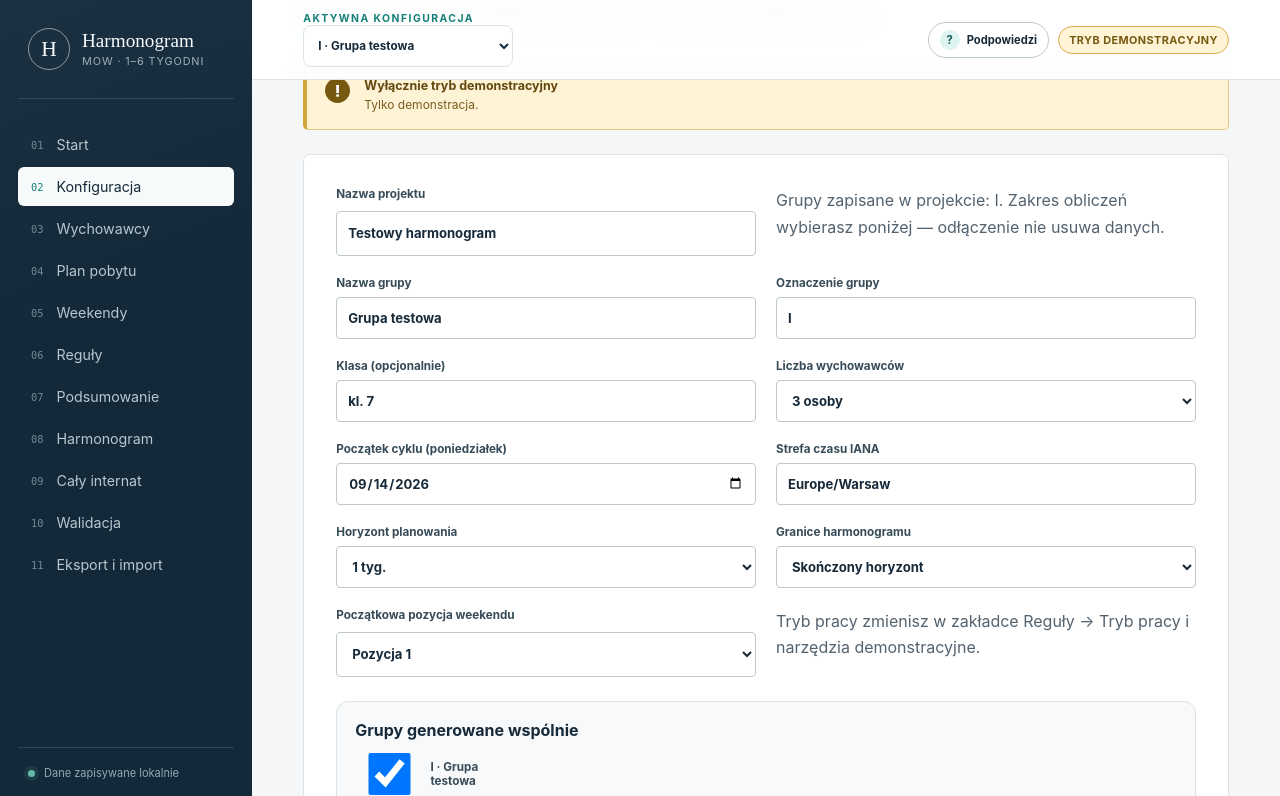
Test: główny przepływ interfejsu › pozwala jawnie przełączyć zespół z trzech na cztery osoby
The width and height of the screenshot is (1280, 796).
(page scrolled)
Select "4 osoby" in the dropdown labelled "Liczba wychowawców" at coordinates (986, 401), box [776,380,1196,422]
(page scrolled)
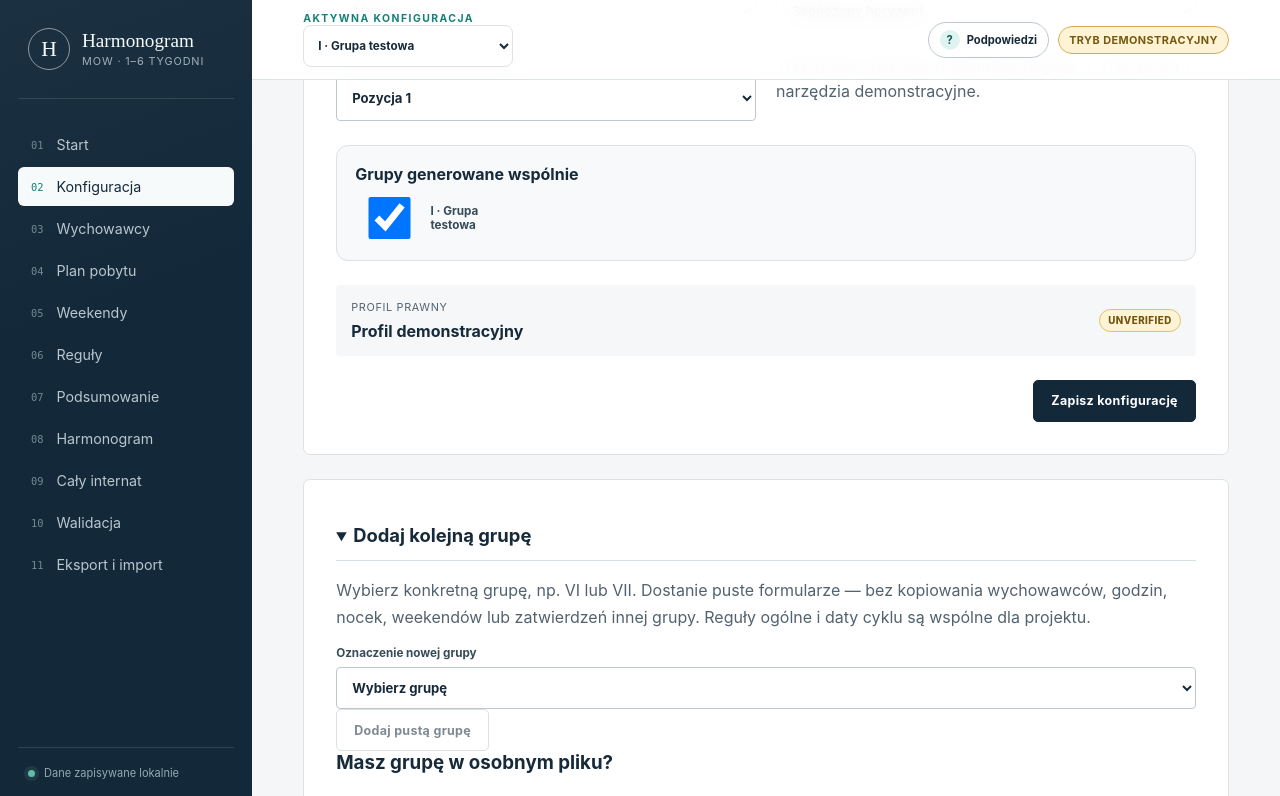
Click the button "Zapisz konfigurację" at coordinates (1115, 401), box [1033,380,1196,422]
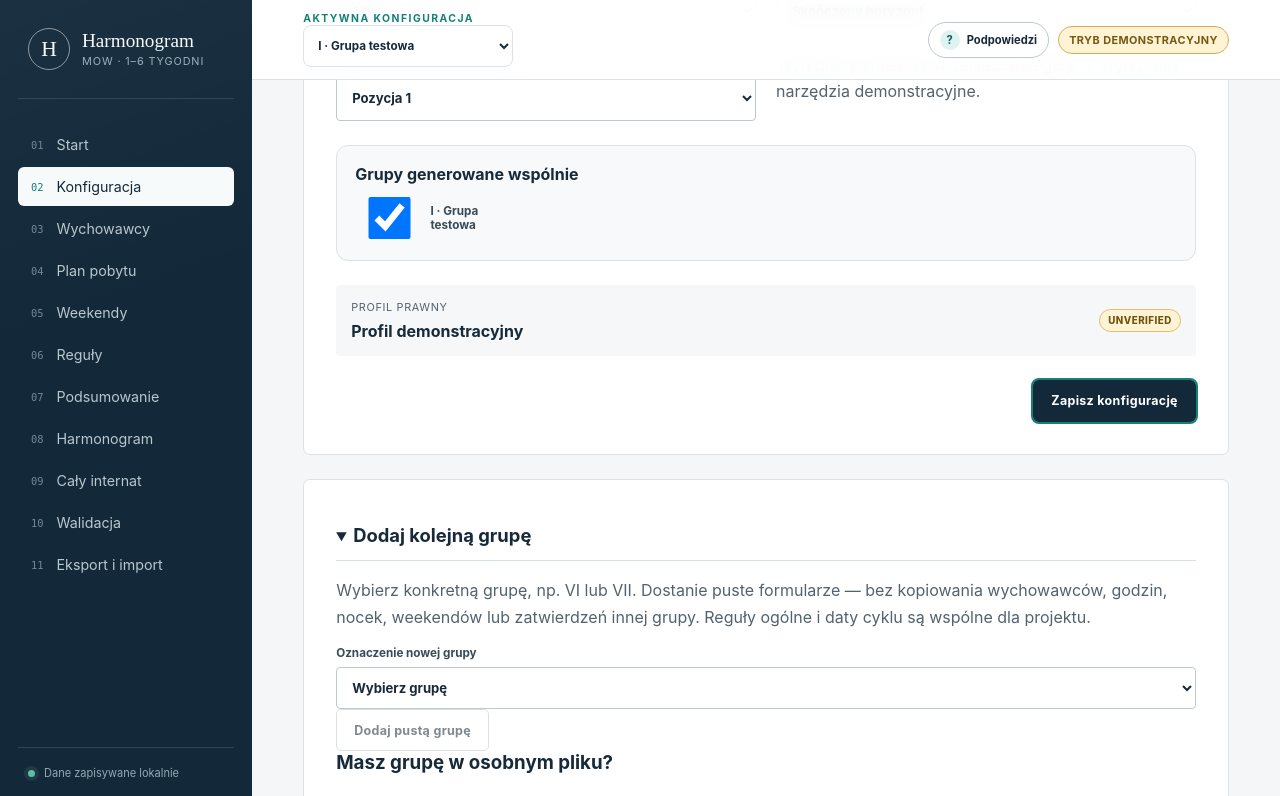
Click the link "03 Wychowawcy" at coordinates (90, 228), box [31,220,150,237]
(page scrolled)
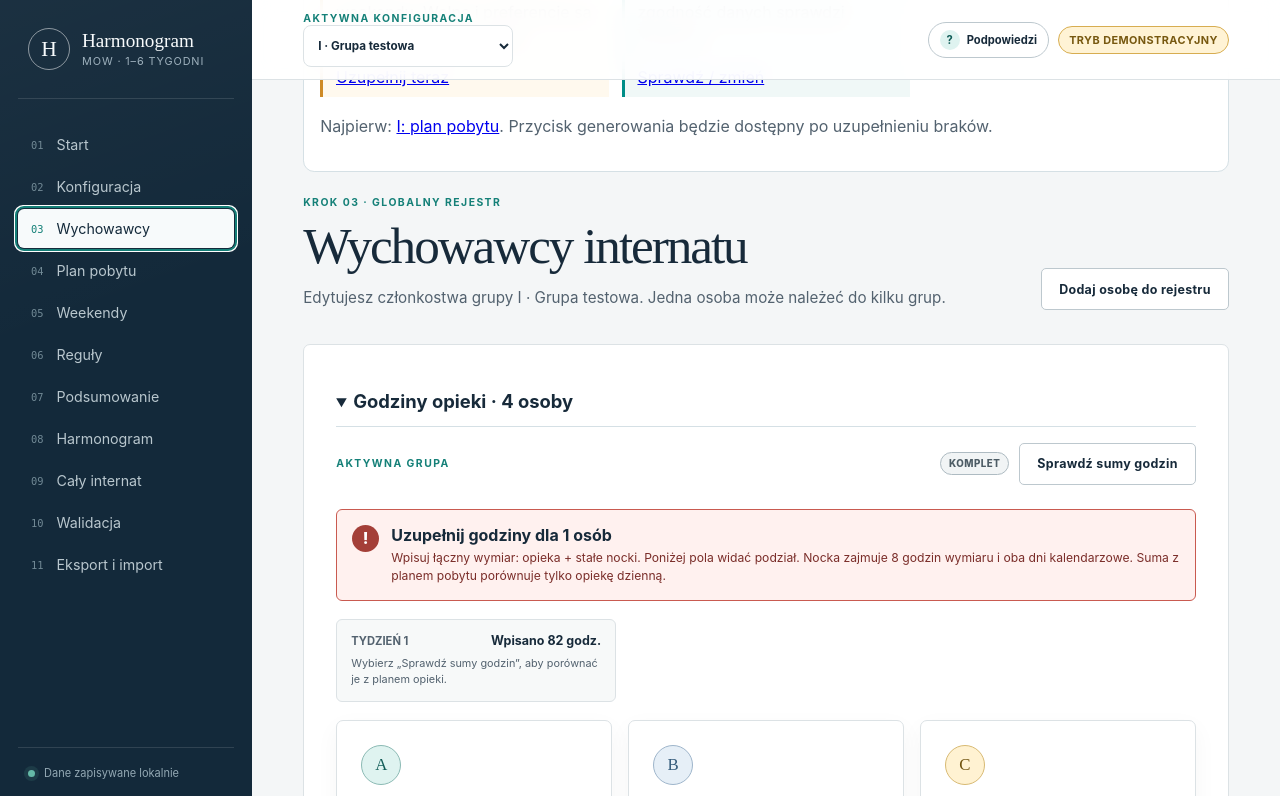
expect the heading "Godziny opieki · 4 osoby" is shown: met, box [353,390,573,412]
